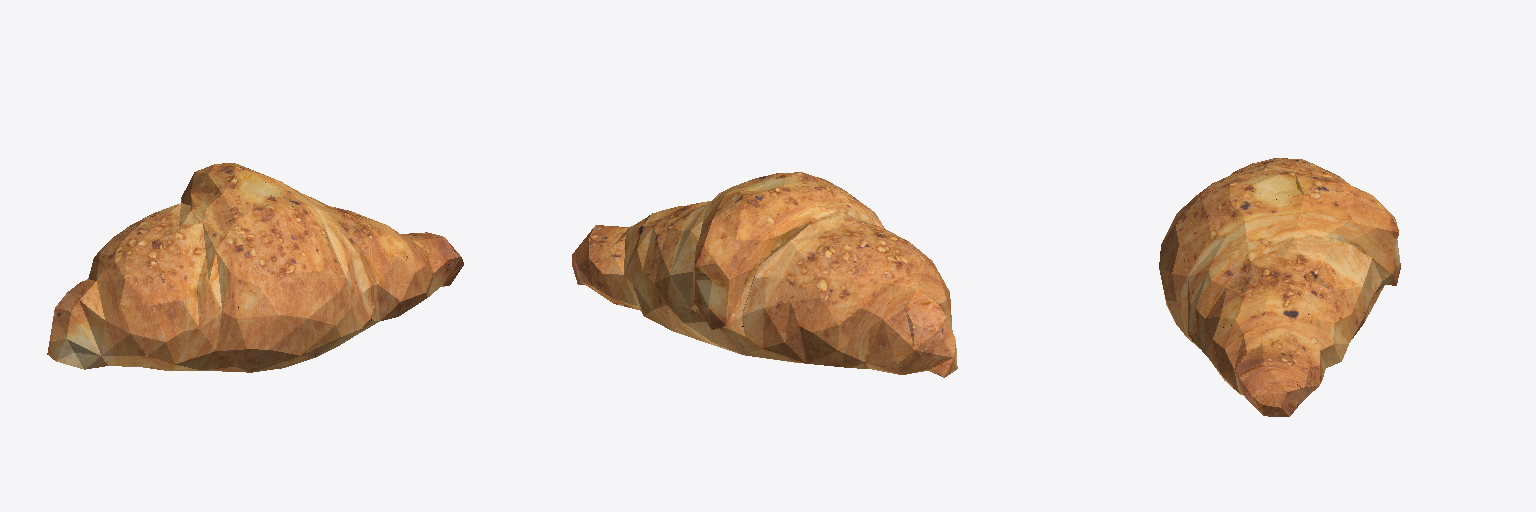
The picture shows the model from 3 angles: view 1: azimuth 30°, elevation 25°; view 2: azimuth 150°, elevation 25°; view 3: azimuth 270°, elevation 25°; orthographic projection.
Parts seen in each view (by area): view 1: 3DPastry001_LQ-1K-JPG; view 2: 3DPastry001_LQ-1K-JPG; view 3: 3DPastry001_LQ-1K-JPG.
Boxes of the visible parts, x1=… form: 3DPastry001_LQ-1K-JPG: x1=47, y1=163, x2=463, y2=372; 3DPastry001_LQ-1K-JPG: x1=572, y1=172, x2=957, y2=377; 3DPastry001_LQ-1K-JPG: x1=1159, y1=158, x2=1400, y2=416.
Bounding box in the file's own units: 0.1231 × 0.0453 × 0.0657.
1 materials, 1 textured.